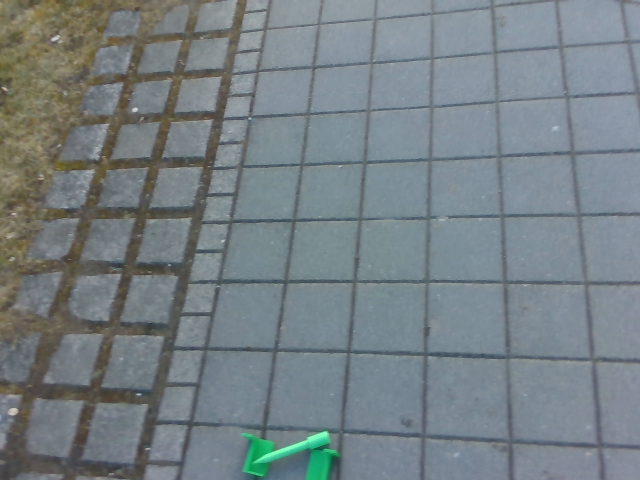Probe: (249, 424, 334, 469)
